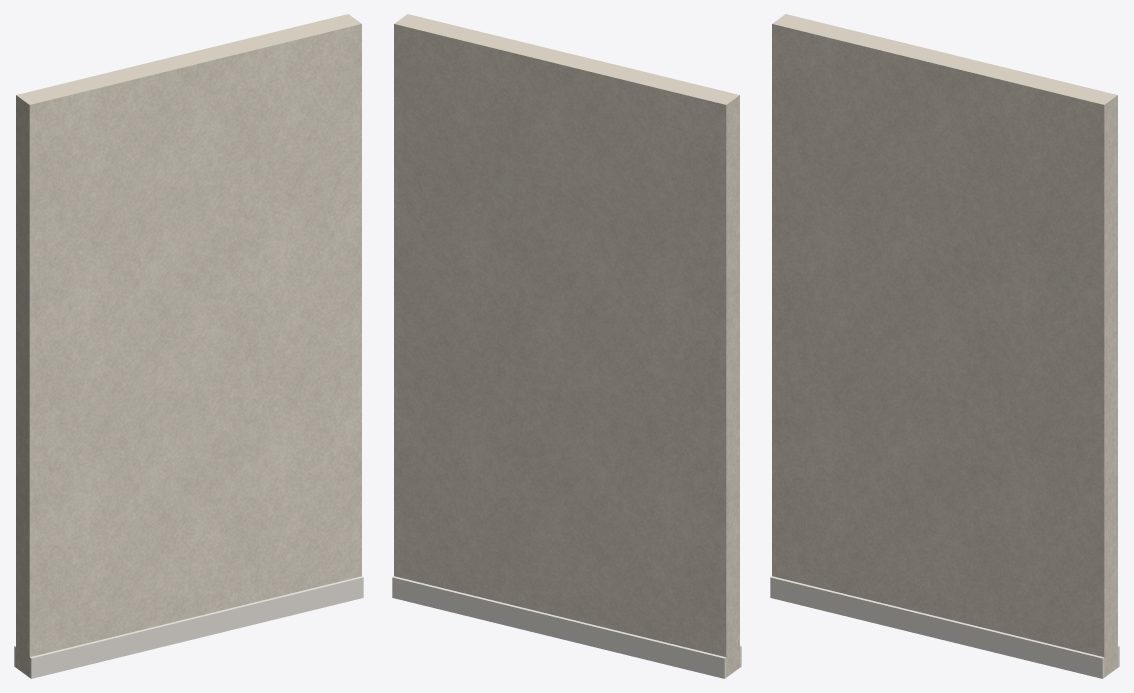
The model's file is interior_wall_end.glb.
The picture shows the model from 3 angles, left to right: view 1: azimuth 30°, elevation 25°; view 2: azimuth 150°, elevation 25°; view 3: azimuth 330°, elevation 25°; orthographic projection.
Visible parts, largest first — view 1: interior_wall_end_plaster, interior_wall_end_trim; view 2: interior_wall_end_plaster, interior_wall_end_trim; view 3: interior_wall_end_plaster, interior_wall_end_trim.
Part boxes in pixels (left/top/right/bottom): interior_wall_end_plaster: left=16, top=14, right=361, bottom=677; interior_wall_end_trim: left=14, top=576, right=363, bottom=678; interior_wall_end_plaster: left=394, top=14, right=739, bottom=677; interior_wall_end_trim: left=392, top=576, right=741, bottom=678; interior_wall_end_plaster: left=772, top=14, right=1117, bottom=677; interior_wall_end_trim: left=770, top=576, right=1119, bottom=678.
Size of the model in its own units: 1.7 by 2.8 by 0.15.
2 materials, 1 textured.
